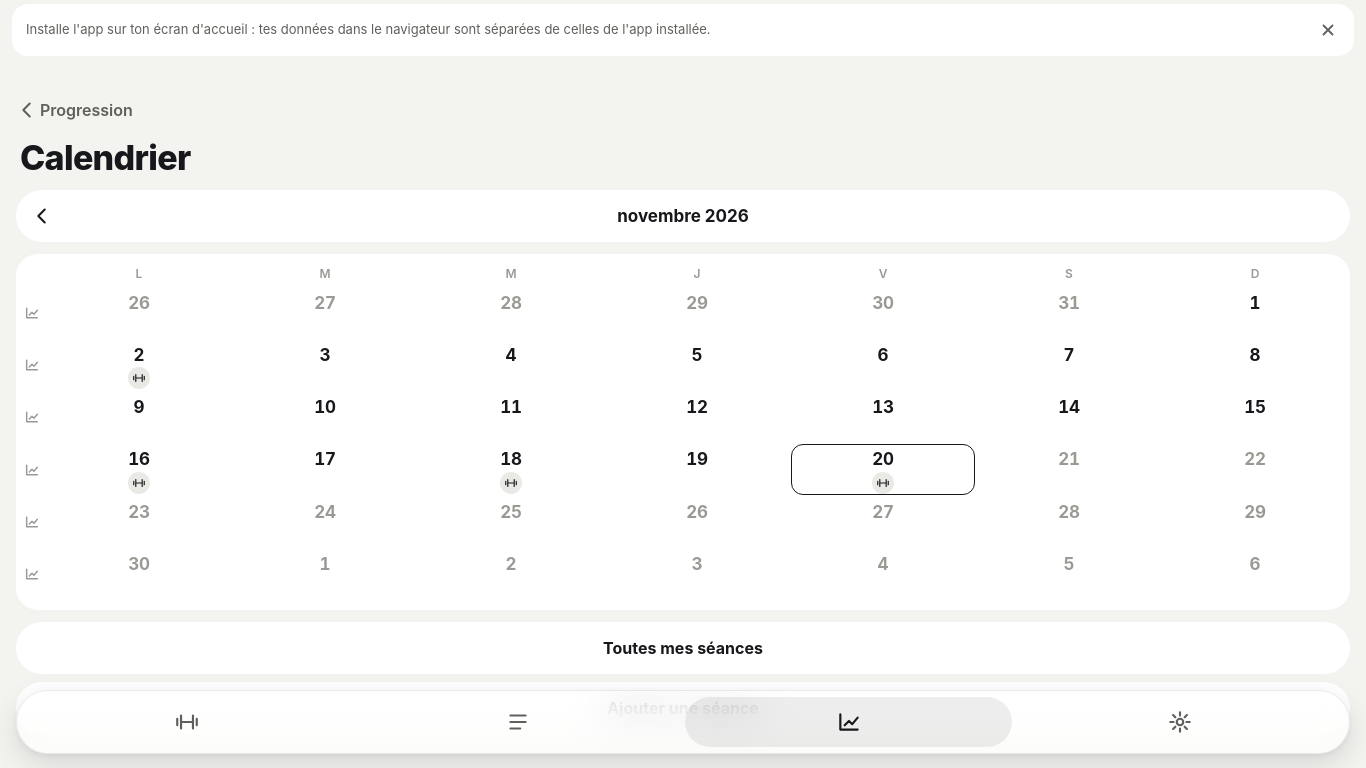
Test case: Calendrier › « Mois précédent » affiche octobre et sa pastille, puis › revient
The image size is (1366, 768).
Check: the heading "novembre 2026" is shown, box x1=617 y1=206 x2=749 y2=226
Click the button named "Mois précédent".
click(42, 216)  # box x1=20 y1=194 x2=64 y2=238
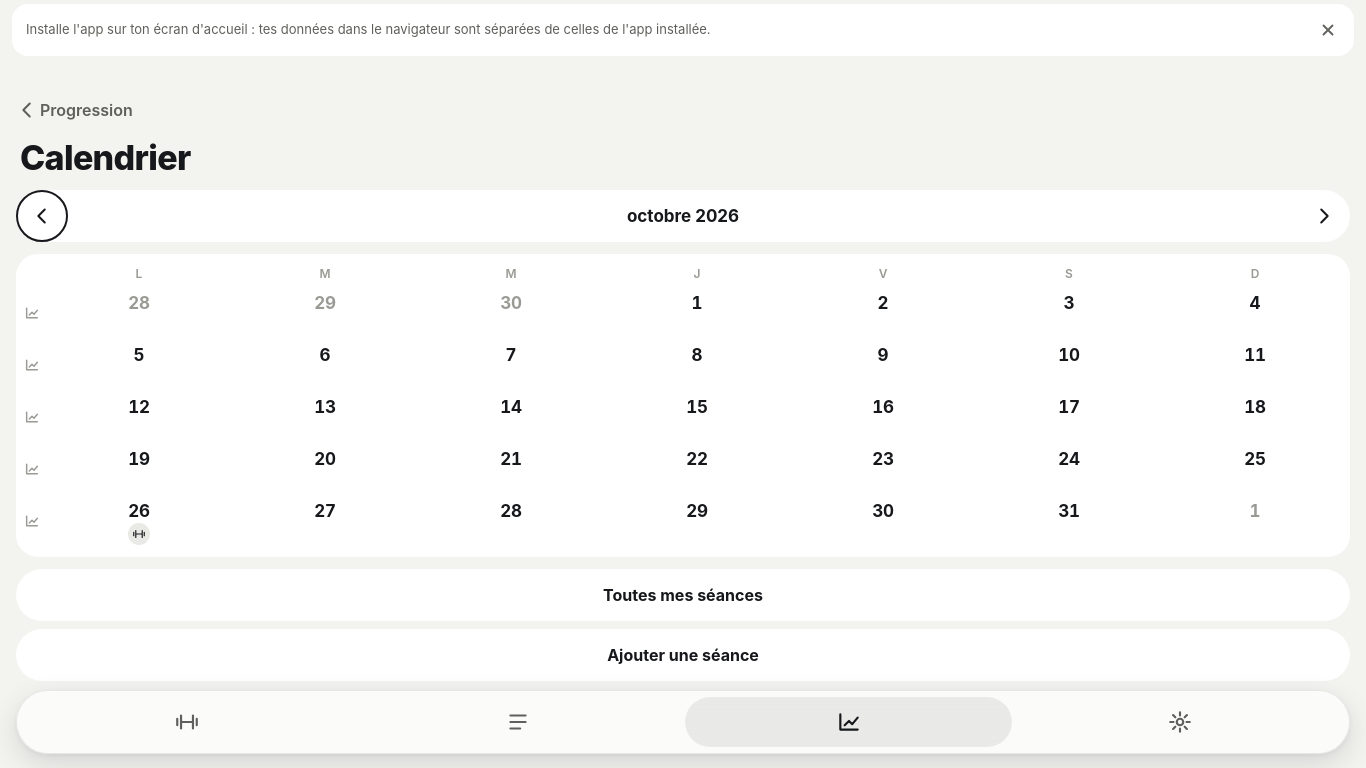
Check: the heading "octobre 2026" is shown, box x1=627 y1=206 x2=739 y2=226
Check: the button named "Mois suivant" is shown, box x1=1302 y1=194 x2=1346 y2=238
